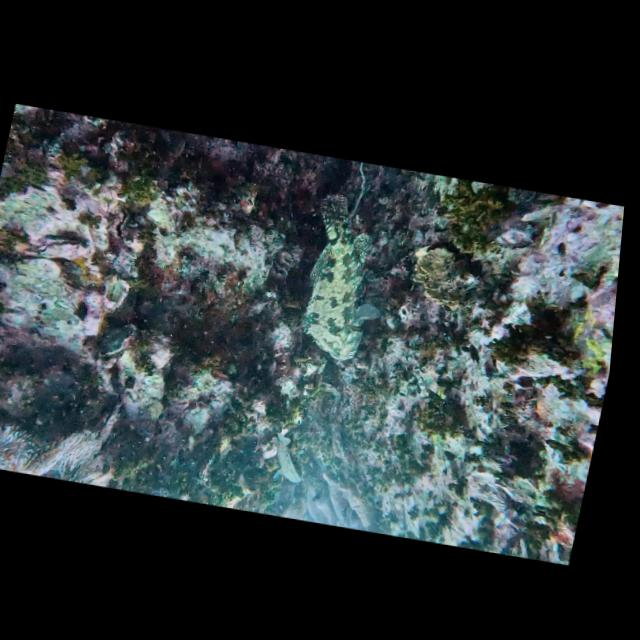Groupers: (288, 193, 404, 365)
